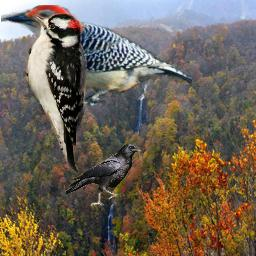Crow: (65, 143, 143, 207)
Woodpecker: (1, 5, 192, 109), (23, 13, 87, 173)
